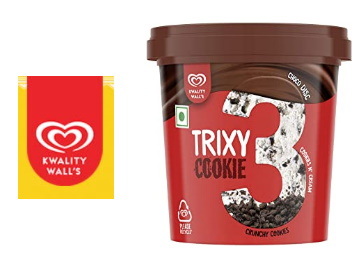Kwality_Walls: (29, 114, 102, 156), (185, 72, 208, 86)
